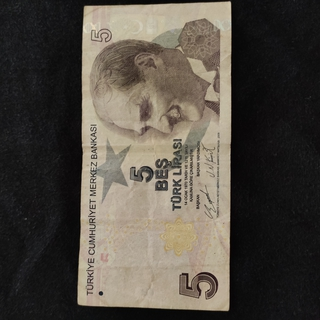5TLFront: (76, 1, 231, 313)
